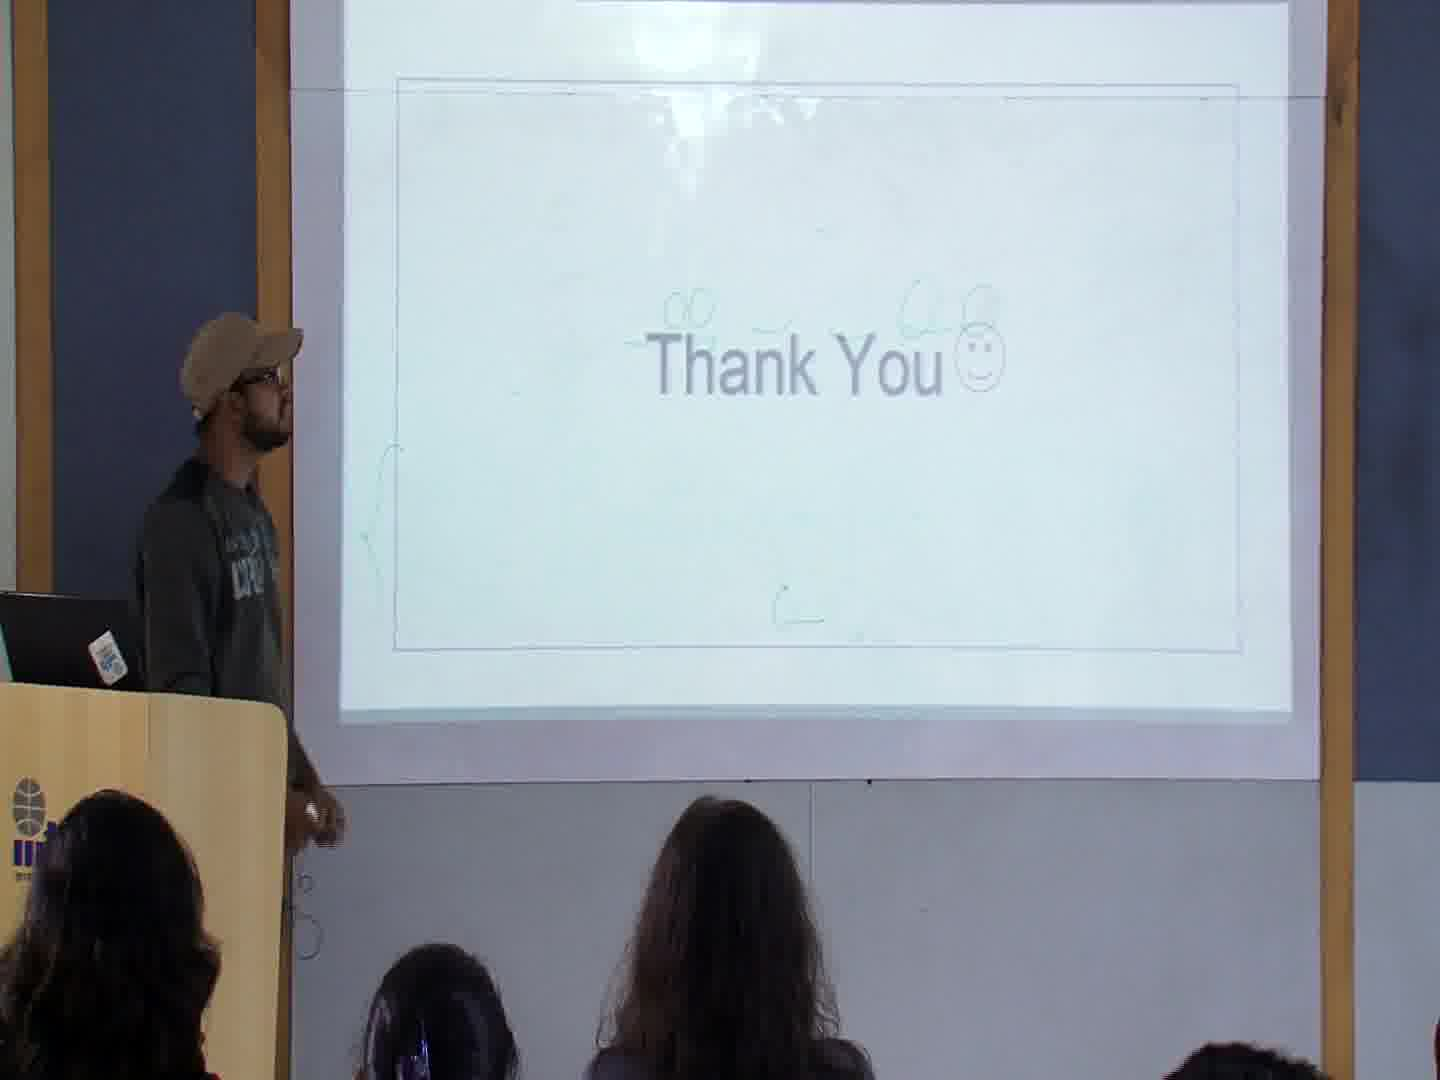slide: (344, 1, 1293, 725)
